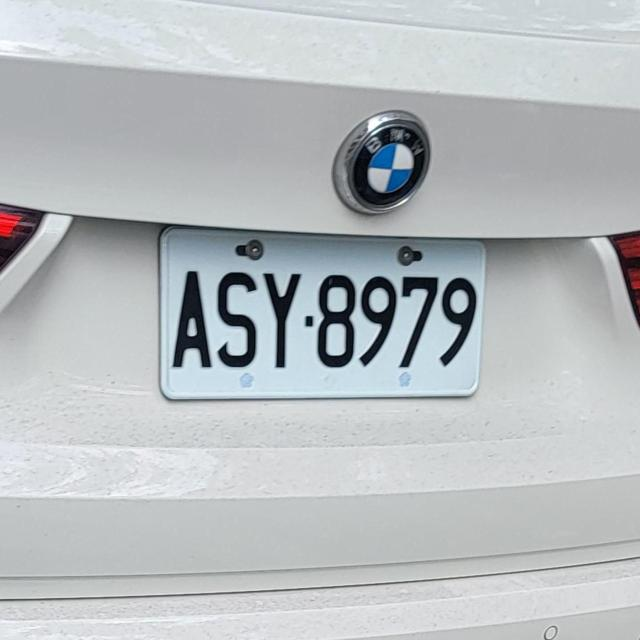W: (149, 230, 493, 403)
